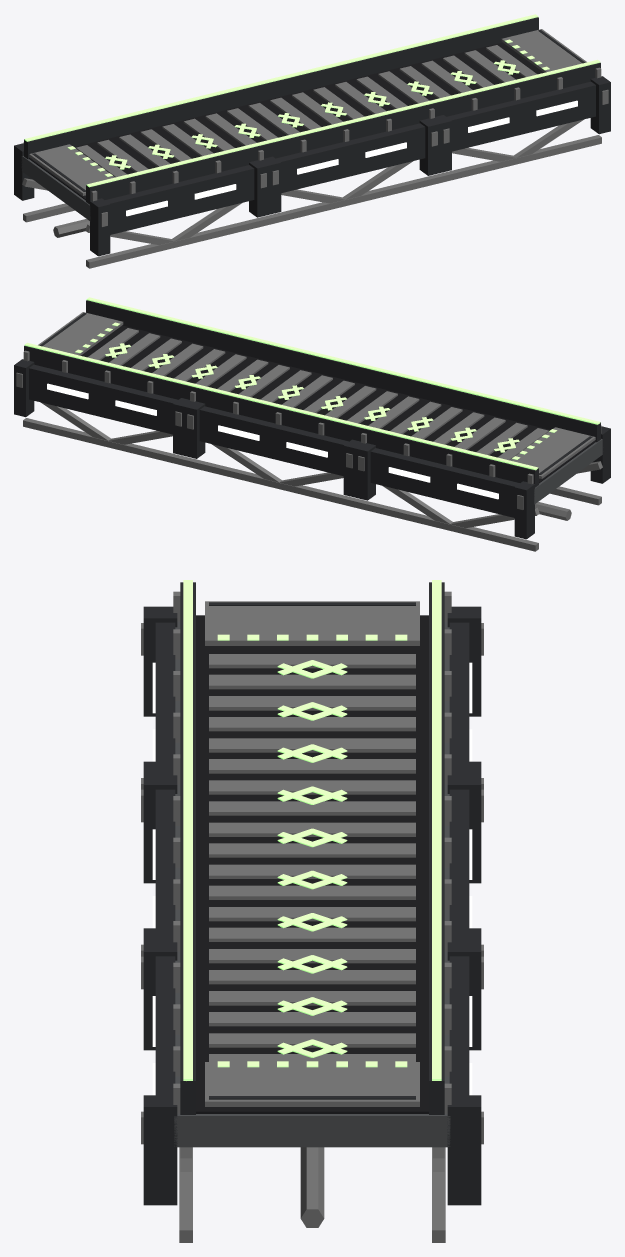
File: Deck_Conveyor_Belt_v4_12.glb
3 views of the same model, one above another, from view 1: azimuth 30°, elevation 25°; view 2: azimuth 150°, elevation 25°; view 3: azimuth 270°, elevation 25° (orthographic). The views are drawn at different scales.
Visible parts, largest first — view 1: Deck_Conveyor_Belt_v4_12, Treads, TreadsRev; view 2: Deck_Conveyor_Belt_v4_12, Treads, TreadsRev; view 3: Deck_Conveyor_Belt_v4_12, Treads, TreadsRev.
Boxes of the visible parts, x1,y1,x2,y2 form: Deck_Conveyor_Belt_v4_12: (14,14,610,268); Treads: (78,45,536,176); TreadsRev: (76,45,537,177); Deck_Conveyor_Belt_v4_12: (14,297,610,551); Treads: (88,328,546,459); TreadsRev: (88,328,548,460); Deck_Conveyor_Belt_v4_12: (141,580,483,1242); Treads: (209,654,415,1061); TreadsRev: (209,654,415,1061).
Bounding box in the file's own units: 12.05 × 1.83 × 3.48.
